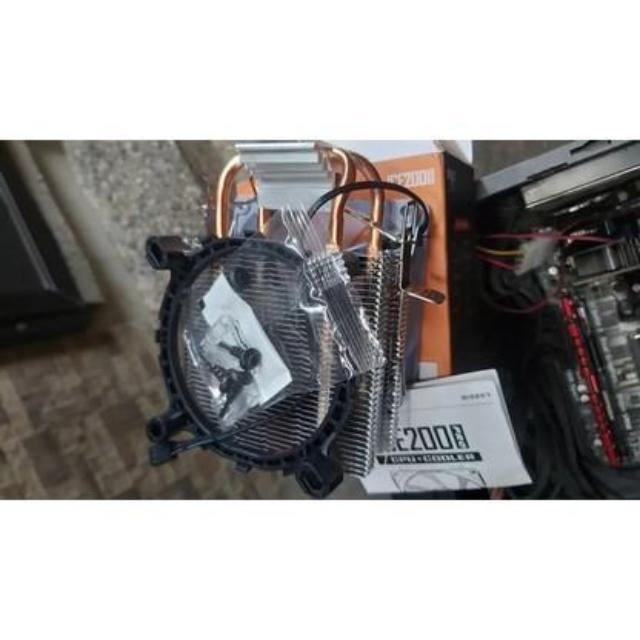CPU_Fan: (146, 129, 428, 500)
